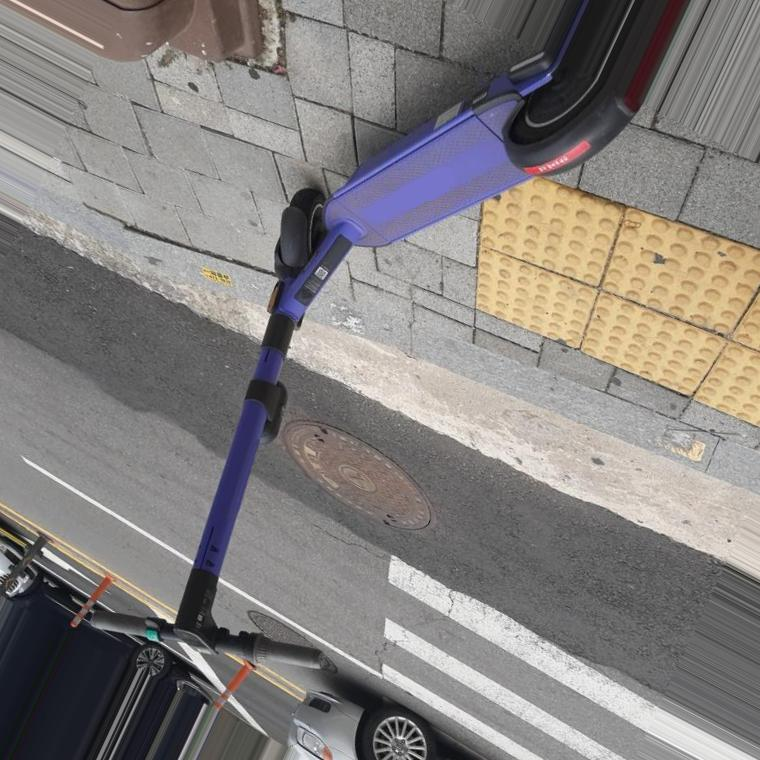scooter: (89, 33, 667, 668)
